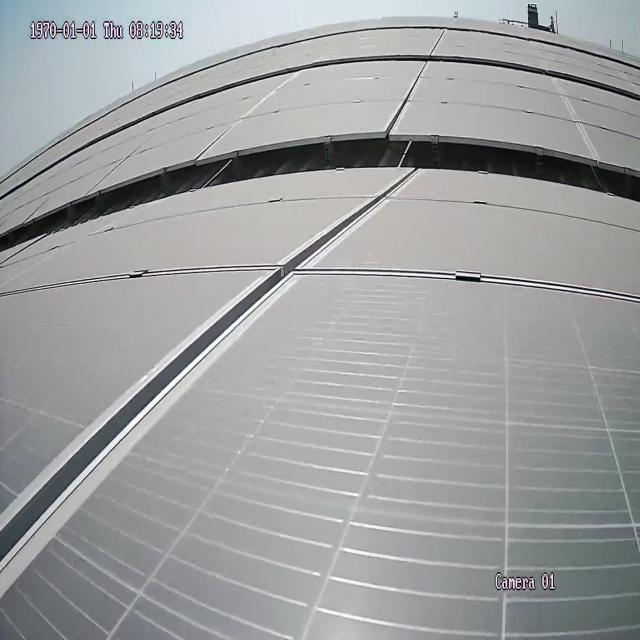interior panel: (0, 183, 408, 592), (337, 259, 631, 309), (552, 85, 603, 155), (386, 62, 427, 125)
outher panel: (0, 136, 640, 254)
